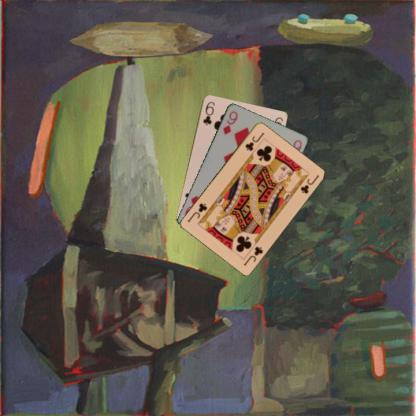6c: (200, 99, 216, 126)
9d: (220, 108, 239, 136)
Jc: (242, 129, 266, 152), (241, 243, 264, 267)
